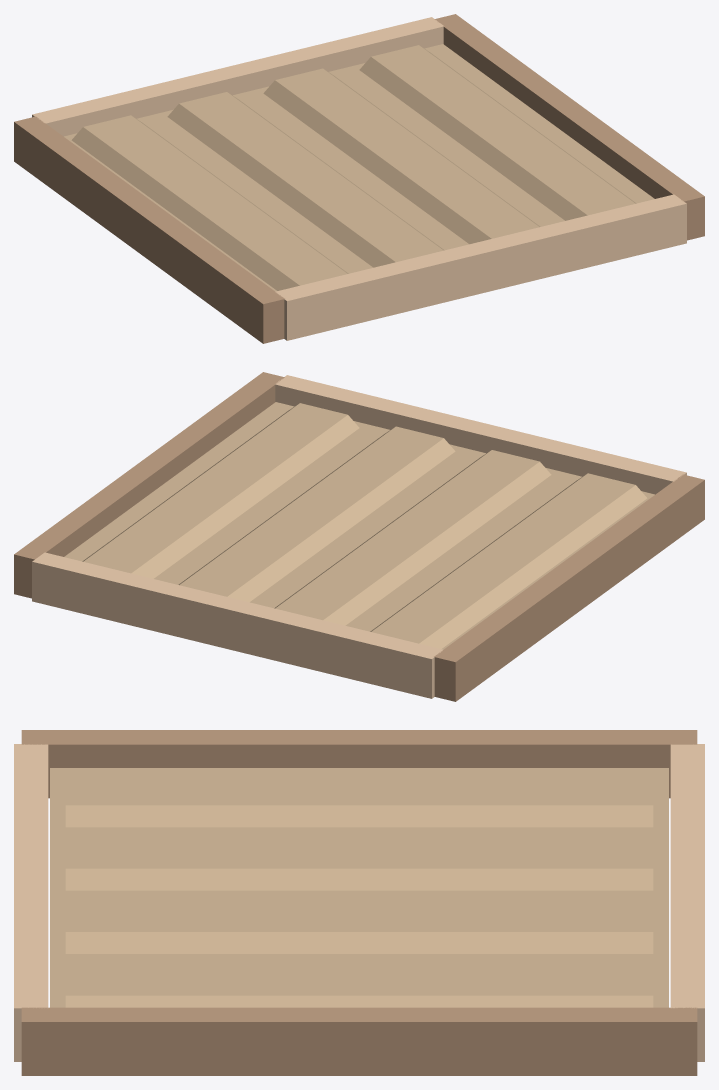
Rendered from crafted-garden-bed-dry-empty.glb.
The picture shows the model from 3 angles, top to bottom: view 1: azimuth 30°, elevation 25°; view 2: azimuth 150°, elevation 25°; view 3: azimuth 270°, elevation 25°; orthographic projection. The views are drawn at different scales.
Parts seen in each view (by area): view 1: end-border-1, soil-base, side-border, furrow-ridge-2, furrow-ridge-3, furrow-ridge, furrow-ridge-1, end-border, side-border-1; view 2: end-border, soil-base, side-border, furrow-ridge-2, furrow-ridge-3, furrow-ridge, furrow-ridge-1, end-border-1, side-border-1; view 3: side-border-1, furrow-ridge, furrow-ridge-1, furrow-ridge-2, soil-base, furrow-ridge-3, side-border, end-border, end-border-1.
Part boxes in pixels (x1,y1,x2,y2): end-border-1: [275, 194, 686, 340]; soil-base: [64, 44, 654, 291]; side-border: [14, 116, 284, 343]; furrow-ridge-2: [263, 68, 540, 244]; furrow-ridge-3: [359, 45, 636, 220]; furrow-ridge: [71, 115, 348, 290]; furrow-ridge-1: [167, 92, 444, 267]; end-border: [32, 17, 443, 136]; side-border-1: [434, 14, 704, 240]; end-border: [32, 552, 442, 698]; soil-base: [64, 402, 654, 649]; side-border: [434, 474, 704, 701]; furrow-ridge-2: [178, 426, 455, 602]; furrow-ridge-3: [82, 403, 359, 578]; furrow-ridge: [370, 473, 647, 648]; furrow-ridge-1: [274, 450, 551, 625]; end-border-1: [275, 375, 686, 494]; side-border-1: [14, 372, 284, 598]; side-border-1: [21, 1007, 697, 1075]; furrow-ridge: [65, 773, 653, 827]; furrow-ridge-1: [65, 837, 653, 890]; furrow-ridge-2: [65, 900, 653, 953]; soil-base: [50, 768, 668, 1007]; furrow-ridge-3: [65, 964, 653, 1007]; side-border: [21, 730, 697, 798]; end-border: [670, 744, 704, 1061]; end-border-1: [14, 744, 48, 1061].
Size of the model in its own units: 1.11 by 0.095 by 1.11.
